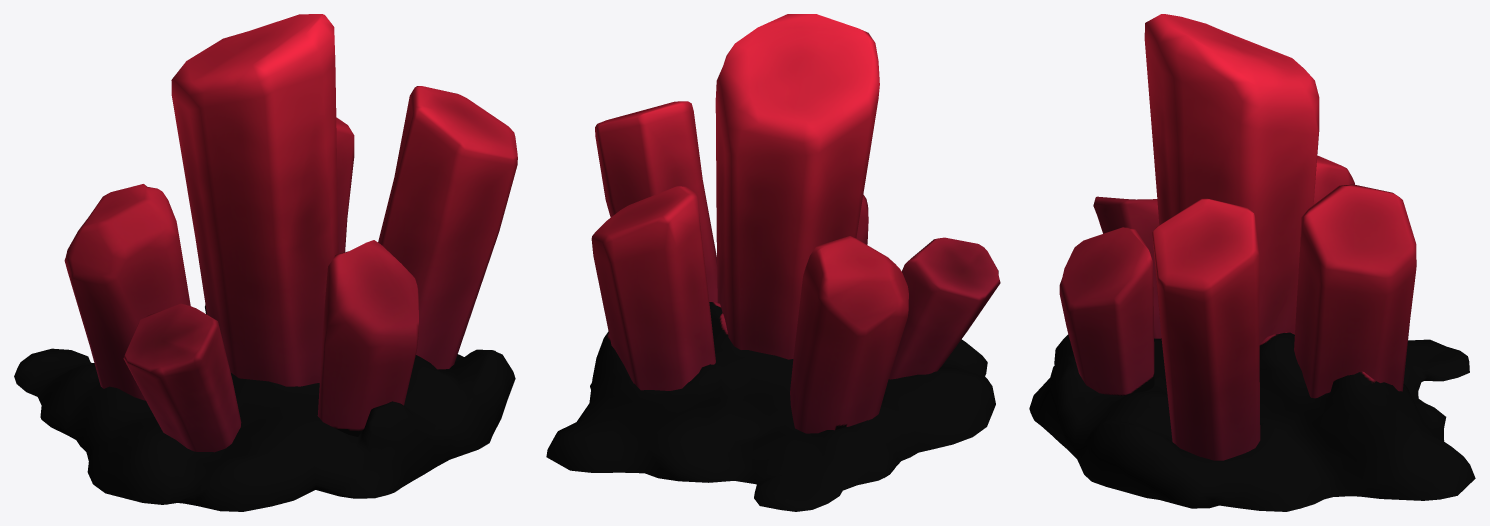
Rendered from SourceFinal.fbx.
3 renders of one model, left to right at view 1: azimuth 30°, elevation 25°; view 2: azimuth 150°, elevation 25°; view 3: azimuth 270°, elevation 25°, orthographic. The views are drawn at different scales.
Visible parts, largest first — view 1: Source_Low; view 2: Source_Low; view 3: Source_Low.
Boxes of the visible parts, left/top/right/bottom form: Source_Low: left=14, top=14, right=517, bottom=511; Source_Low: left=546, top=14, right=1000, bottom=511; Source_Low: left=1029, top=14, right=1475, bottom=511.
Size of the model in its own units: 143 by 138 by 138.
1 material, 1 textured.
